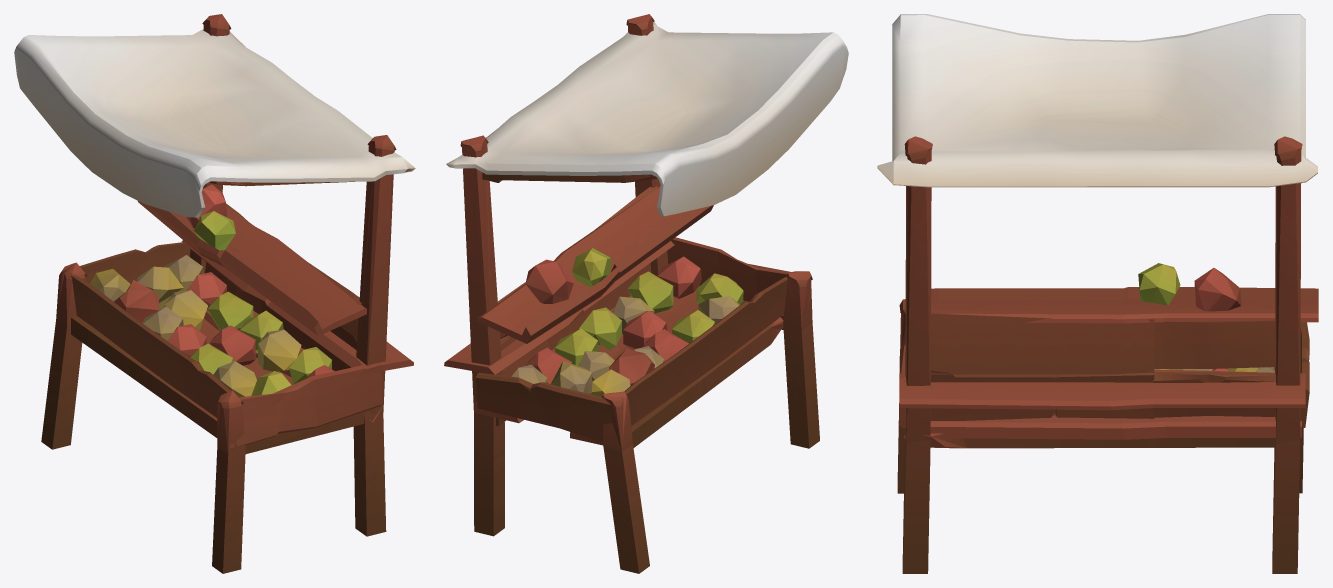
3 views of the same model, side by side, from view 1: azimuth 30°, elevation 25°; view 2: azimuth 150°, elevation 25°; view 3: azimuth 270°, elevation 25° (orthographic). The views are drawn at different scales.
Parts seen in each view (by area): view 1: MarketStandSmall; view 2: MarketStandSmall; view 3: MarketStandSmall.
Part boxes in pixels (left/top/right/bottom): MarketStandSmall: left=14, top=14, right=415, bottom=573; MarketStandSmall: left=444, top=14, right=848, bottom=573; MarketStandSmall: left=877, top=14, right=1318, bottom=573.
Bounding box in the file's own units: 102 × 180 × 156.
Materials: 1 (1 with a texture image).
